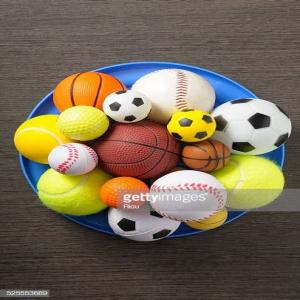Basket: (96, 121, 181, 176), (52, 72, 121, 113), (188, 139, 229, 172)
Football: (209, 94, 293, 158), (108, 207, 176, 246), (166, 109, 218, 142), (103, 90, 151, 123)
Golf: (57, 104, 109, 141)
Tennis: (207, 156, 285, 208), (38, 165, 113, 218), (14, 113, 84, 162)
